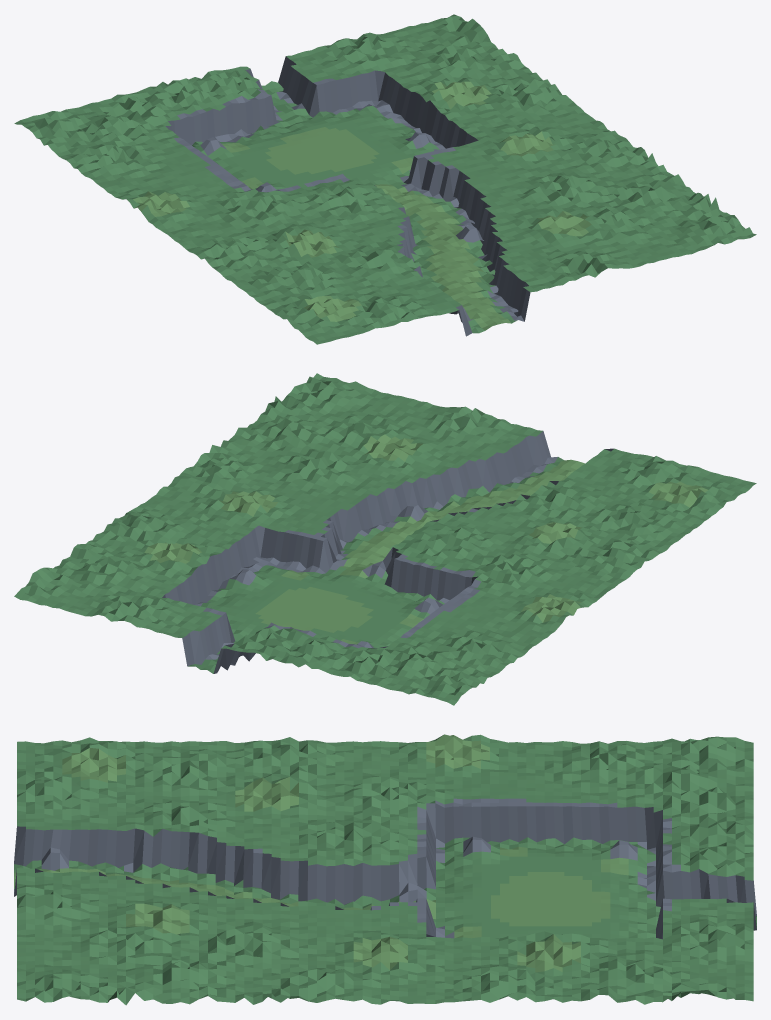
Rendered from stage1.fbx.
3 views of the same model, one above another, from view 1: azimuth 30°, elevation 25°; view 2: azimuth 150°, elevation 25°; view 3: azimuth 270°, elevation 25° (orthographic). The views are drawn at different scales.
Visible parts, largest first — view 1: stage1; view 2: stage1; view 3: stage1.
Boxes of the visible parts, x1=… form: stage1: x1=14, y1=14, x2=756, y2=344; stage1: x1=14, y1=373, x2=756, y2=705; stage1: x1=14, y1=734, x2=756, y2=1005.
Bounding box in the file's own units: 6651 × 614 × 8000.
